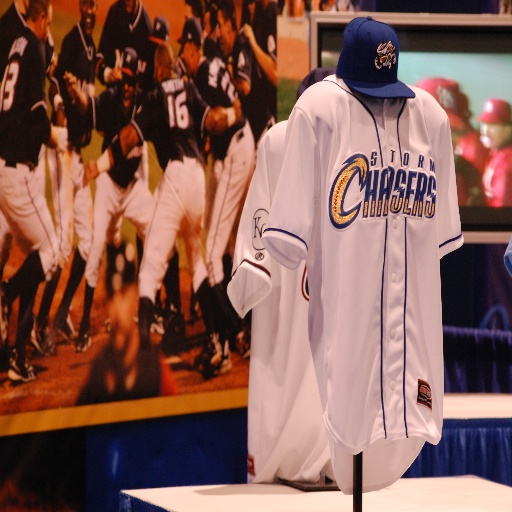hand: (61, 70, 80, 99), (81, 157, 98, 187), (105, 64, 123, 87), (242, 20, 256, 49), (55, 125, 68, 152), (231, 90, 241, 121)
